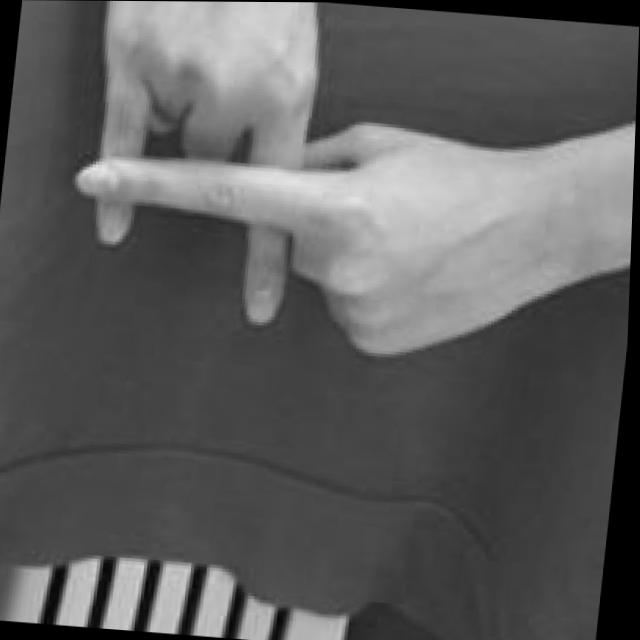H: (53, 0, 593, 376)
